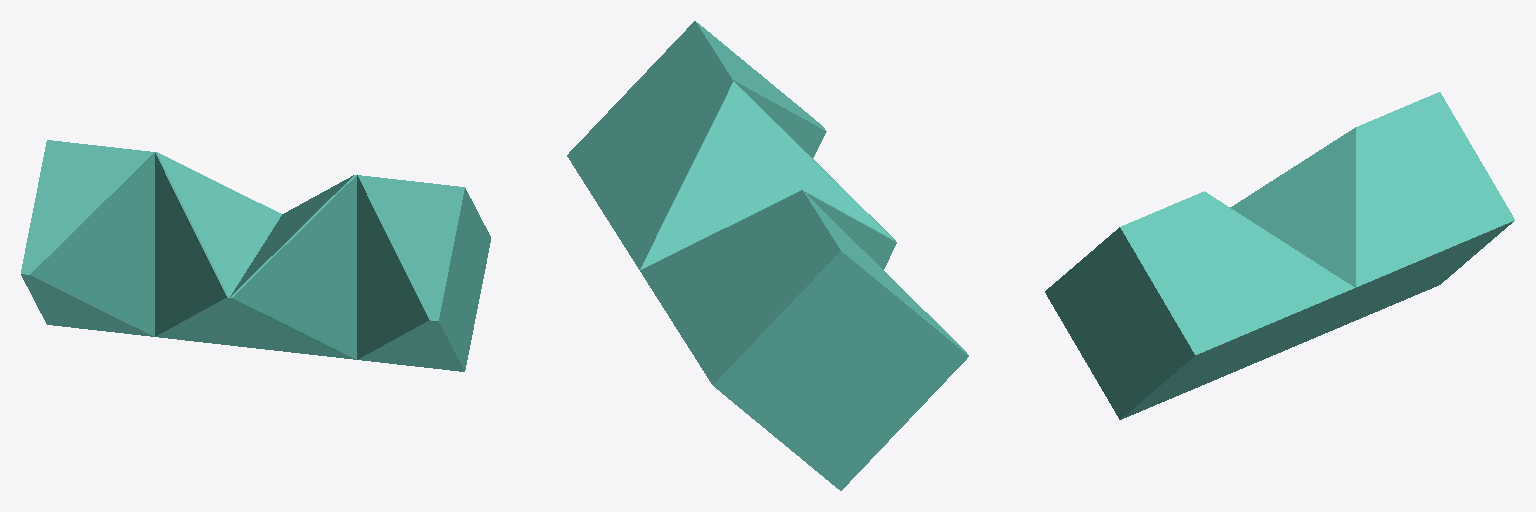
The robot description file, URDF, robot "obj_2":
<robot name="obj_2" version="1.0">
  <link name="link_2">
    <collision name="2-collision.001">
      <origin rpy="0.78540 -0.00000 -0.78540" xyz="-0.34015 0.41828 0.23844"/>
      <geometry>
        <mesh filename="../meshes/obj/2-collision.001.obj" scale="0.00500 0.00500 0.00500"/>
      </geometry>
    </collision>
    <collision name="2-collision.002">
      <origin rpy="0.78540 -0.00000 -0.78540" xyz="-0.34015 0.41828 0.23844"/>
      <geometry>
        <mesh filename="../meshes/obj/2-collision.002.obj" scale="0.00500 0.00500 0.00500"/>
      </geometry>
    </collision>
    <collision name="2-collision.003">
      <origin rpy="0.78540 -0.00000 -0.78540" xyz="-0.34015 0.41828 0.23844"/>
      <geometry>
        <mesh filename="../meshes/obj/2-collision.003.obj" scale="0.00500 0.00500 0.00500"/>
      </geometry>
    </collision>
    <collision name="2-collision.004">
      <origin rpy="0.78540 -0.00000 -0.78540" xyz="-0.34015 0.41828 0.23844"/>
      <geometry>
        <mesh filename="../meshes/obj/2-collision.004.obj" scale="0.00500 0.00500 0.00500"/>
      </geometry>
    </collision>
    <collision name="2-collision.005">
      <origin rpy="0.78540 -0.00000 -0.78540" xyz="-0.34015 0.41828 0.23844"/>
      <geometry>
        <mesh filename="../meshes/obj/2-collision.005.obj" scale="0.00500 0.00500 0.00500"/>
      </geometry>
    </collision>
    <collision name="2-collision.006">
      <origin rpy="0.78540 -0.00000 -0.78540" xyz="-0.34015 0.41828 0.23844"/>
      <geometry>
        <mesh filename="../meshes/obj/2-collision.006.obj" scale="0.00500 0.00500 0.00500"/>
      </geometry>
    </collision>
    <collision name="2-collision.007">
      <origin rpy="0.78540 -0.00000 -0.78540" xyz="-0.34015 0.41828 0.23844"/>
      <geometry>
        <mesh filename="../meshes/obj/2-collision.007.obj" scale="0.00500 0.00500 0.00500"/>
      </geometry>
    </collision>
    <collision name="2-collision.008">
      <origin rpy="0.78540 -0.00000 -0.78540" xyz="-0.34015 0.41828 0.23844"/>
      <geometry>
        <mesh filename="../meshes/obj/2-collision.008.obj" scale="0.00500 0.00500 0.00500"/>
      </geometry>
    </collision>
    <collision name="2-collision.009">
      <origin rpy="0.78540 -0.00000 -0.78540" xyz="-0.34015 0.41828 0.23844"/>
      <geometry>
        <mesh filename="../meshes/obj/2-collision.009.obj" scale="0.00500 0.00500 0.00500"/>
      </geometry>
    </collision>
    <collision name="2-collision.010">
      <origin rpy="0.78540 -0.00000 -0.78540" xyz="-0.34015 0.41828 0.23844"/>
      <geometry>
        <mesh filename="../meshes/obj/2-collision.010.obj" scale="0.00500 0.00500 0.00500"/>
      </geometry>
    </collision>
    <collision name="2-collision.011">
      <origin rpy="0.78540 -0.00000 -0.78540" xyz="-0.34015 0.41828 0.23844"/>
      <geometry>
        <mesh filename="../meshes/obj/2-collision.011.obj" scale="0.00500 0.00500 0.00500"/>
      </geometry>
    </collision>
    <collision name="2-collision.012">
      <origin rpy="0.78540 -0.00000 -0.78540" xyz="-0.34015 0.41828 0.23844"/>
      <geometry>
        <mesh filename="../meshes/obj/2-collision.012.obj" scale="0.00500 0.00500 0.00500"/>
      </geometry>
    </collision>
    <collision name="2-collision.013">
      <origin rpy="0.78540 -0.00000 -0.78540" xyz="-0.34015 0.41828 0.23844"/>
      <geometry>
        <mesh filename="../meshes/obj/2-collision.013.obj" scale="0.00500 0.00500 0.00500"/>
      </geometry>
    </collision>
    <collision name="2-collision.014">
      <origin rpy="0.78540 -0.00000 -0.78540" xyz="-0.34015 0.41828 0.23844"/>
      <geometry>
        <mesh filename="../meshes/obj/2-collision.014.obj" scale="0.00500 0.00500 0.00500"/>
      </geometry>
    </collision>
    <collision name="2-collision.015">
      <origin rpy="0.78540 -0.00000 -0.78540" xyz="-0.34015 0.41828 0.23844"/>
      <geometry>
        <mesh filename="../meshes/obj/2-collision.015.obj" scale="0.00500 0.00500 0.00500"/>
      </geometry>
    </collision>
    <collision name="2-collision.016">
      <origin rpy="0.78540 -0.00000 -0.78540" xyz="-0.34015 0.41828 0.23844"/>
      <geometry>
        <mesh filename="../meshes/obj/2-collision.016.obj" scale="0.00500 0.00500 0.00500"/>
      </geometry>
    </collision>
    <collision name="2-collision.017">
      <origin rpy="0.78540 -0.00000 -0.78540" xyz="-0.34015 0.41828 0.23844"/>
      <geometry>
        <mesh filename="../meshes/obj/2-collision.017.obj" scale="0.00500 0.00500 0.00500"/>
      </geometry>
    </collision>
    <collision name="2-collision.018">
      <origin rpy="0.78540 -0.00000 -0.78540" xyz="-0.34015 0.41828 0.23844"/>
      <geometry>
        <mesh filename="../meshes/obj/2-collision.018.obj" scale="0.00500 0.00500 0.00500"/>
      </geometry>
    </collision>
    <collision name="2-collision.019">
      <origin rpy="0.78540 -0.00000 -0.78540" xyz="-0.34015 0.41828 0.23844"/>
      <geometry>
        <mesh filename="../meshes/obj/2-collision.019.obj" scale="0.00500 0.00500 0.00500"/>
      </geometry>
    </collision>
    <collision name="2-collision.020">
      <origin rpy="0.78540 -0.00000 -0.78540" xyz="-0.34015 0.41828 0.23844"/>
      <geometry>
        <mesh filename="../meshes/obj/2-collision.020.obj" scale="0.00500 0.00500 0.00500"/>
      </geometry>
    </collision>
    <inertial>
      <inertia ixx="0.00012" ixy="0.00008" ixz="0.00000" iyy="0.00012" iyz="0.00000" izz="0.00020"/>
      <origin rpy="0.00000 0.00000 0.00000" xyz="-0.31199 0.44645 0.21853"/>
      <mass value="0.01000"/>
    </inertial>
    <visual name="2">
      <material name="turnarrow"/>
      <origin rpy="0.78540 -0.00000 -0.78540" xyz="-0.34015 0.41828 0.23844"/>
      <geometry>
        <mesh filename="../meshes/obj/6 part puzzle cube.001.obj" scale="0.00500 0.00500 0.00500"/>
      </geometry>
    </visual>
  </link>
  <material name="turnarrow">
    <color rgba="0.44314 0.80000 0.74118 1.00000"/>
  </material>
</robot>

--- Render facts (derived) ---
The picture shows the robot from 3 angles, left to right: view 1: azimuth 30°, elevation 25°; view 2: azimuth 150°, elevation 25°; view 3: azimuth 270°, elevation 25°; orthographic projection.
Model obj_2 with 1 links and 0 joints (none), rooted at link_2, posed every joint at zero.
Links seen in each view (by area): view 1: link_2; view 2: link_2; view 3: link_2.
Link boxes in pixels (<box>): link_2: <box>21,140,490,371</box>; link_2: <box>567,21,968,490</box>; link_2: <box>1045,92,1514,419</box>.
Size in the robot's own frame: 0.4682 by 0.4682 by 0.2121 metres.
1 mesh visuals loaded from 1 distinct referenced files (1 OBJ).